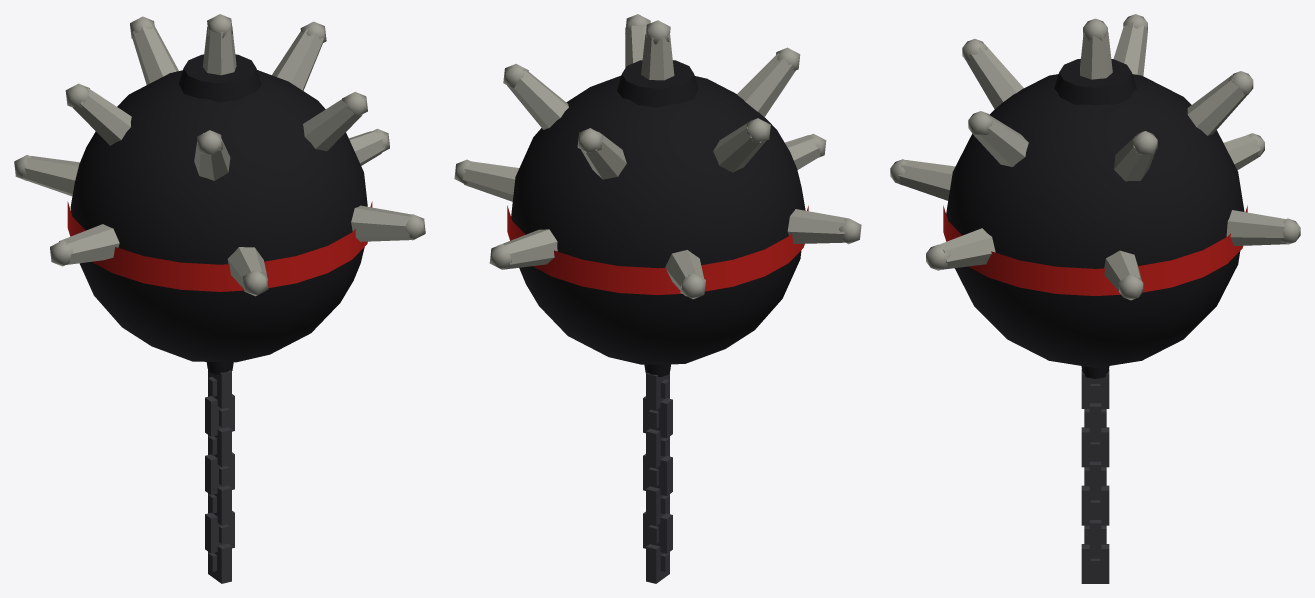
The model's file is sea_mine.glb.
3 views of the same model, side by side, from view 1: azimuth 30°, elevation 25°; view 2: azimuth 150°, elevation 25°; view 3: azimuth 270°, elevation 25° (orthographic).
Parts seen in each view (by area): view 1: SeaMine; view 2: SeaMine; view 3: SeaMine.
Part boxes in pixels (left/top/right/bottom): SeaMine: left=14, top=14, right=425, bottom=583; SeaMine: left=454, top=14, right=861, bottom=583; SeaMine: left=890, top=14, right=1300, bottom=583.
Bounding box in the file's own units: 1 × 1.45 × 0.9565.
